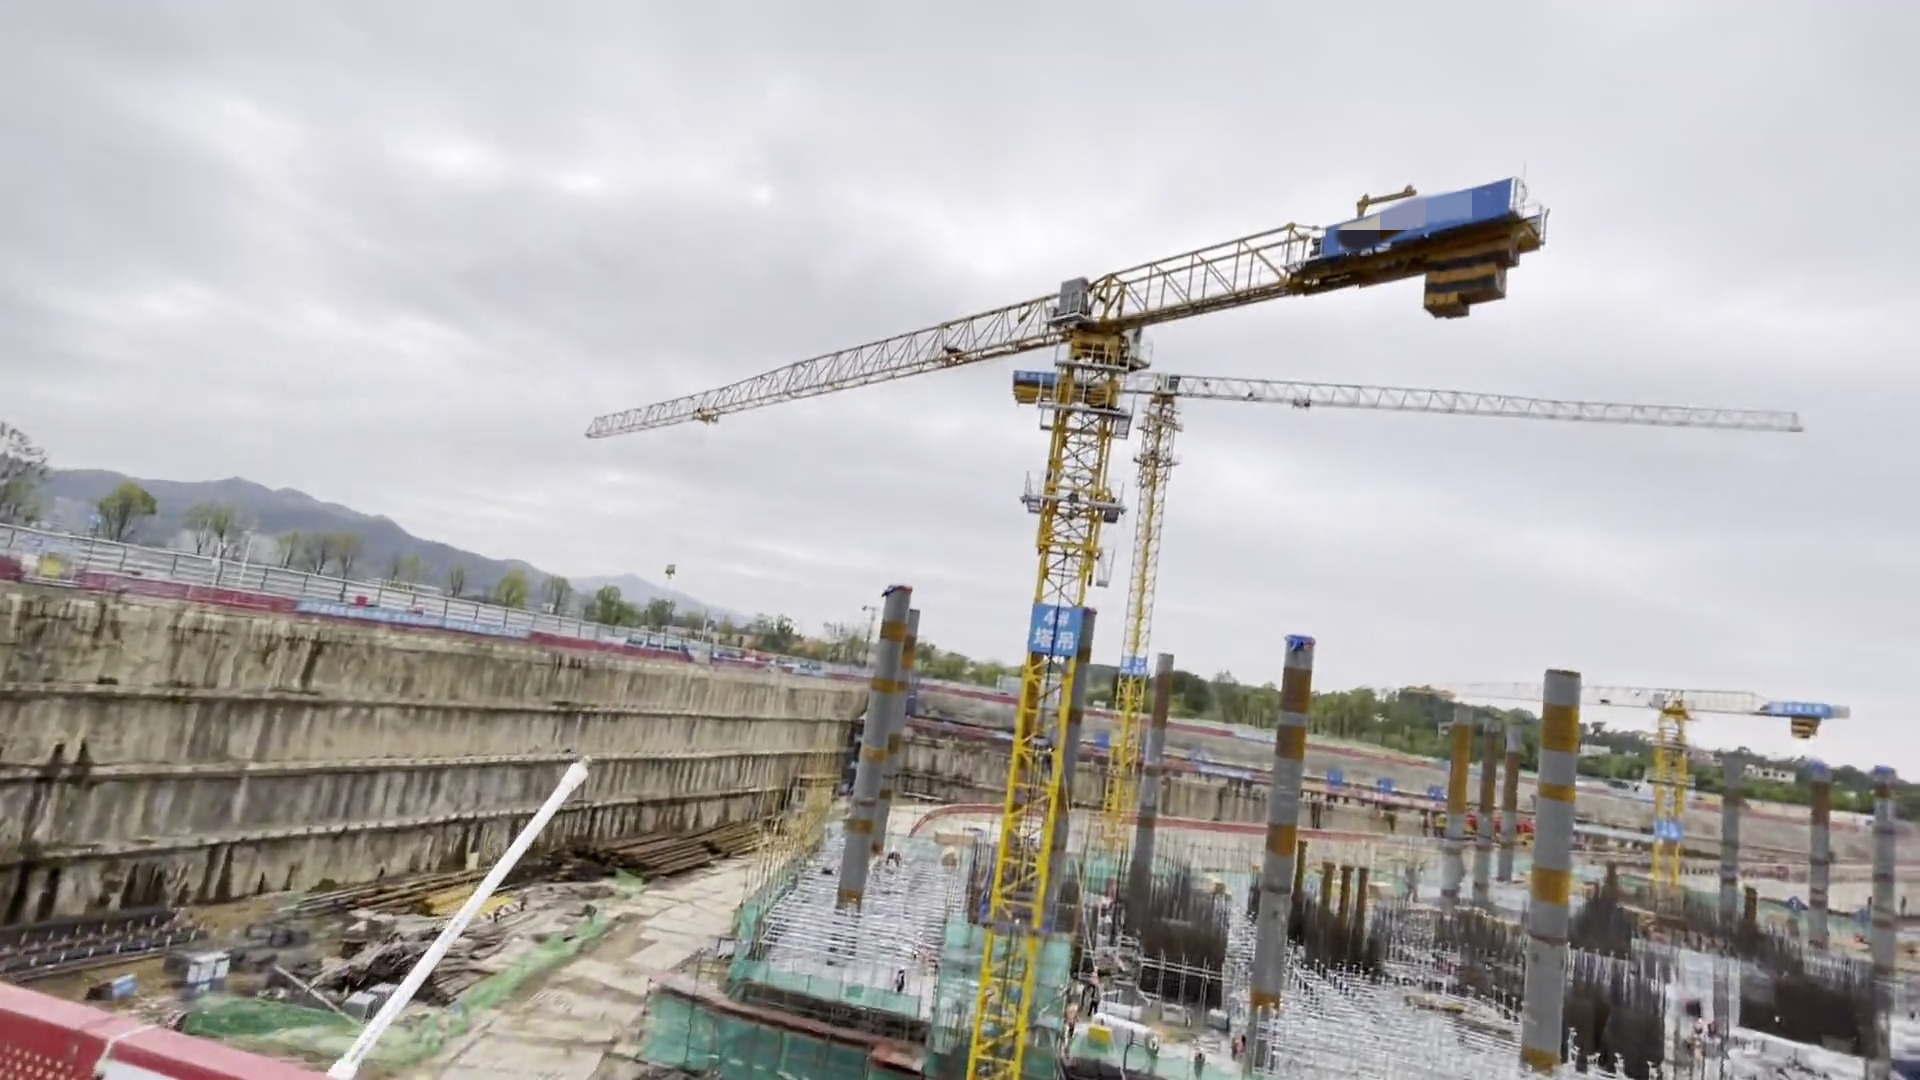hook: (665, 564, 675, 582)
scaffold: (1091, 1011, 1154, 1052), (1093, 1002, 1143, 1025), (1203, 1006, 1222, 1027)
